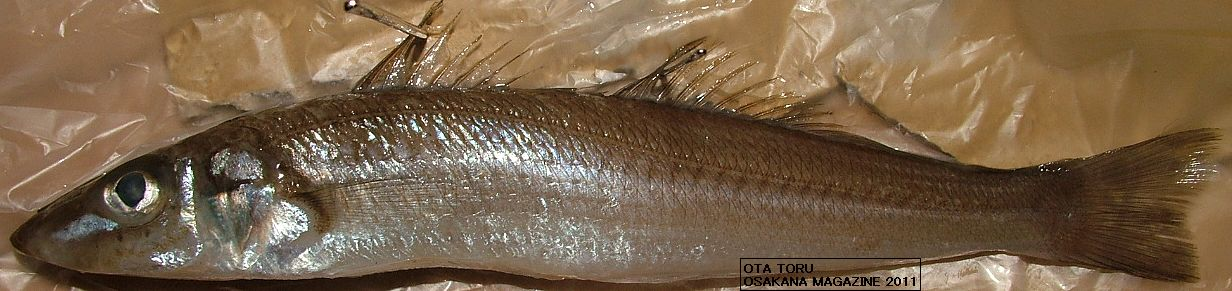kiss: (22, 73, 1219, 291)
